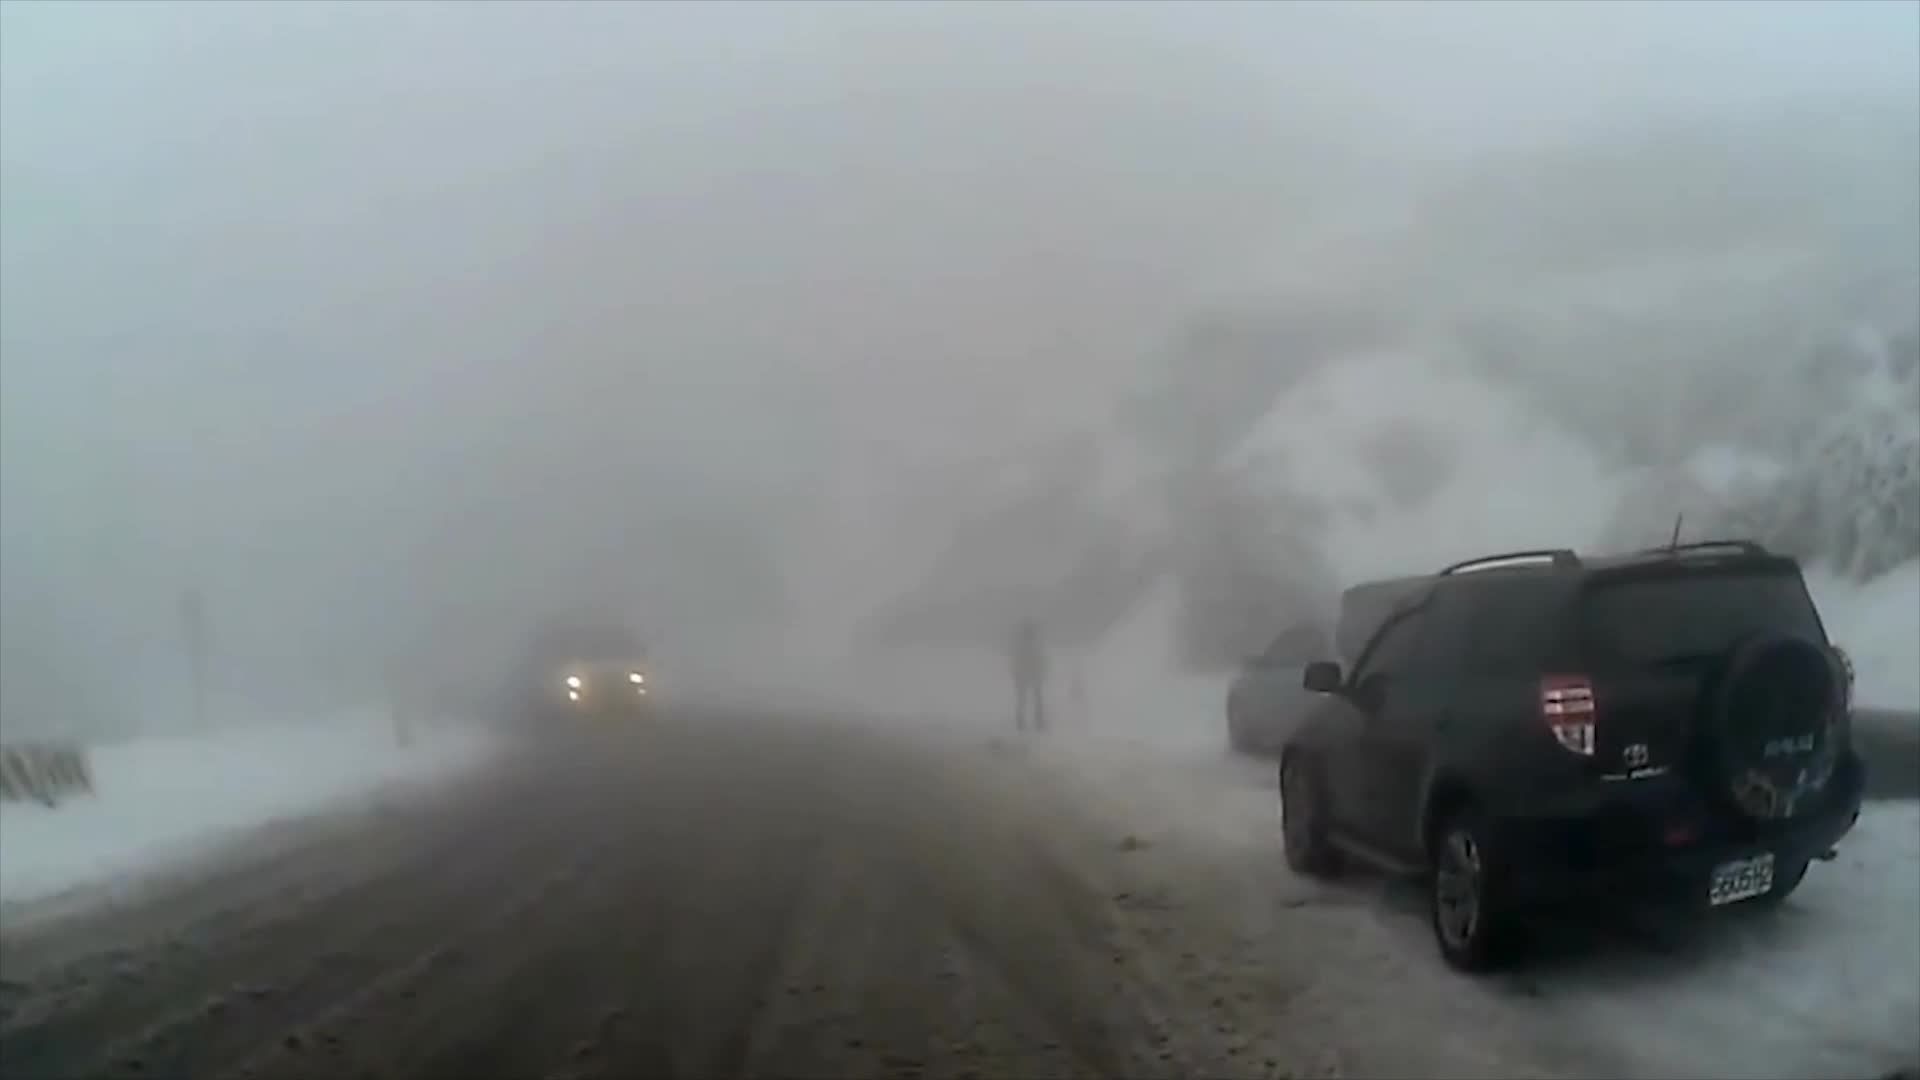pedestrian: (1006, 613, 1050, 733)
vehicle: (1274, 535, 1865, 974), (1225, 562, 1538, 761), (522, 609, 655, 721)
